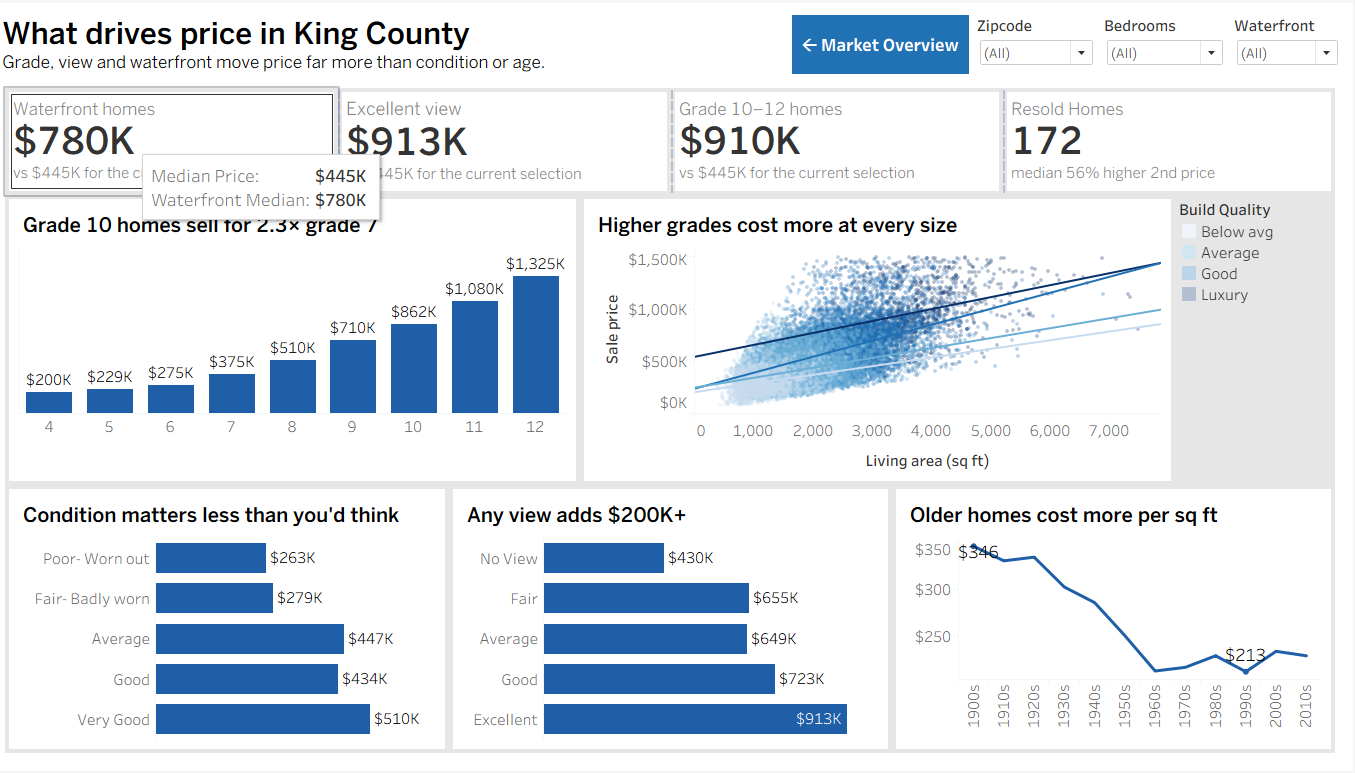

This screenshot's page, from the dashboard's own definition file:
{"tool":"tableau","page":{"name":"What Drives Price","canvas":[1366,768],"ordinal":1},"visuals":[{"type":"text","box":[8,8,793,67]},{"type":"dashboard-object","box":[801,8,185,67]},{"type":"filter","title":"Price by Grade","param":"[federated.1jder0m1qy78lr1b0oafd1vgtfeu].[none:zipcode:ok]","box":[986,8,127,67]},{"type":"filter","title":"Price by Grade","param":"[federated.1jder0m1qy78lr1b0oafd1vgtfeu].[none:bedrooms:ok]","box":[1113,8,130,67]},{"type":"filter","title":"Price by Grade","param":"[federated.1jder0m1qy78lr1b0oafd1vgtfeu].[none:waterfront:nk]","box":[1243,8,115,67]},{"type":"worksheet","title":"Tile Waterfront","mark":"Automatic","box":[18,85,333,107]},{"type":"worksheet","title":"Tile View","mark":"Automatic","box":[351,85,333,107]},{"type":"worksheet","title":"Tile Grade","mark":"Automatic","box":[684,85,332,107]},{"type":"worksheet","title":"Tile Resold","mark":"Automatic","box":[1016,85,332,107]},{"type":"worksheet","title":"Price by Grade","mark":"Automatic","rows":["Calculation_1118811406868484"],"cols":["grade"],"box":[18,192,575,290]},{"type":"worksheet","title":"Size vs Price","mark":"Automatic","rows":["price"],"cols":["sqft_living"],"box":[593,192,595,290]},{"type":"legend","title":"Size vs Price","param":"[federated.1jder0m1qy78lr1b0oafd1vgtfeu].[none:Calculation_1118811407060998:nk]","box":[1188,192,160,242]},{"type":"worksheet","title":"Condition","mark":"Automatic","rows":["condition"],"cols":["Calculation_1118811406868484"],"box":[18,482,444,268]},{"type":"worksheet","title":"View Premium","mark":"Automatic","rows":["view"],"cols":["Calculation_1118811406868484"],"box":[462,482,443,268]},{"type":"worksheet","title":"Decade Built","mark":"Line","rows":["Calculation_1118811406962693"],"cols":["Calculation_1118811407159303"],"box":[905,482,443,268]}]}

Visuals, with their boxes in screenshot pixels (x1, y1, x2, y2), scaled from the page's 1366x768 canvas onto the 1355x773 screenshot:
text: bbox=[8, 8, 795, 75]
dashboard-object: bbox=[795, 8, 978, 75]
"Price by Grade" filter: bbox=[978, 8, 1104, 75]
"Price by Grade" filter: bbox=[1104, 8, 1233, 75]
"Price by Grade" filter: bbox=[1233, 8, 1347, 75]
"Tile Waterfront" worksheet: bbox=[18, 86, 348, 193]
"Tile View" worksheet: bbox=[348, 86, 678, 193]
"Tile Grade" worksheet: bbox=[678, 86, 1008, 193]
"Tile Resold" worksheet: bbox=[1008, 86, 1337, 193]
"Price by Grade" worksheet: bbox=[18, 193, 588, 485]
"Size vs Price" worksheet: bbox=[588, 193, 1178, 485]
"Size vs Price" legend: bbox=[1178, 193, 1337, 437]
"Condition" worksheet: bbox=[18, 485, 458, 755]
"View Premium" worksheet: bbox=[458, 485, 898, 755]
"Decade Built" worksheet (Line marks): bbox=[898, 485, 1337, 755]
